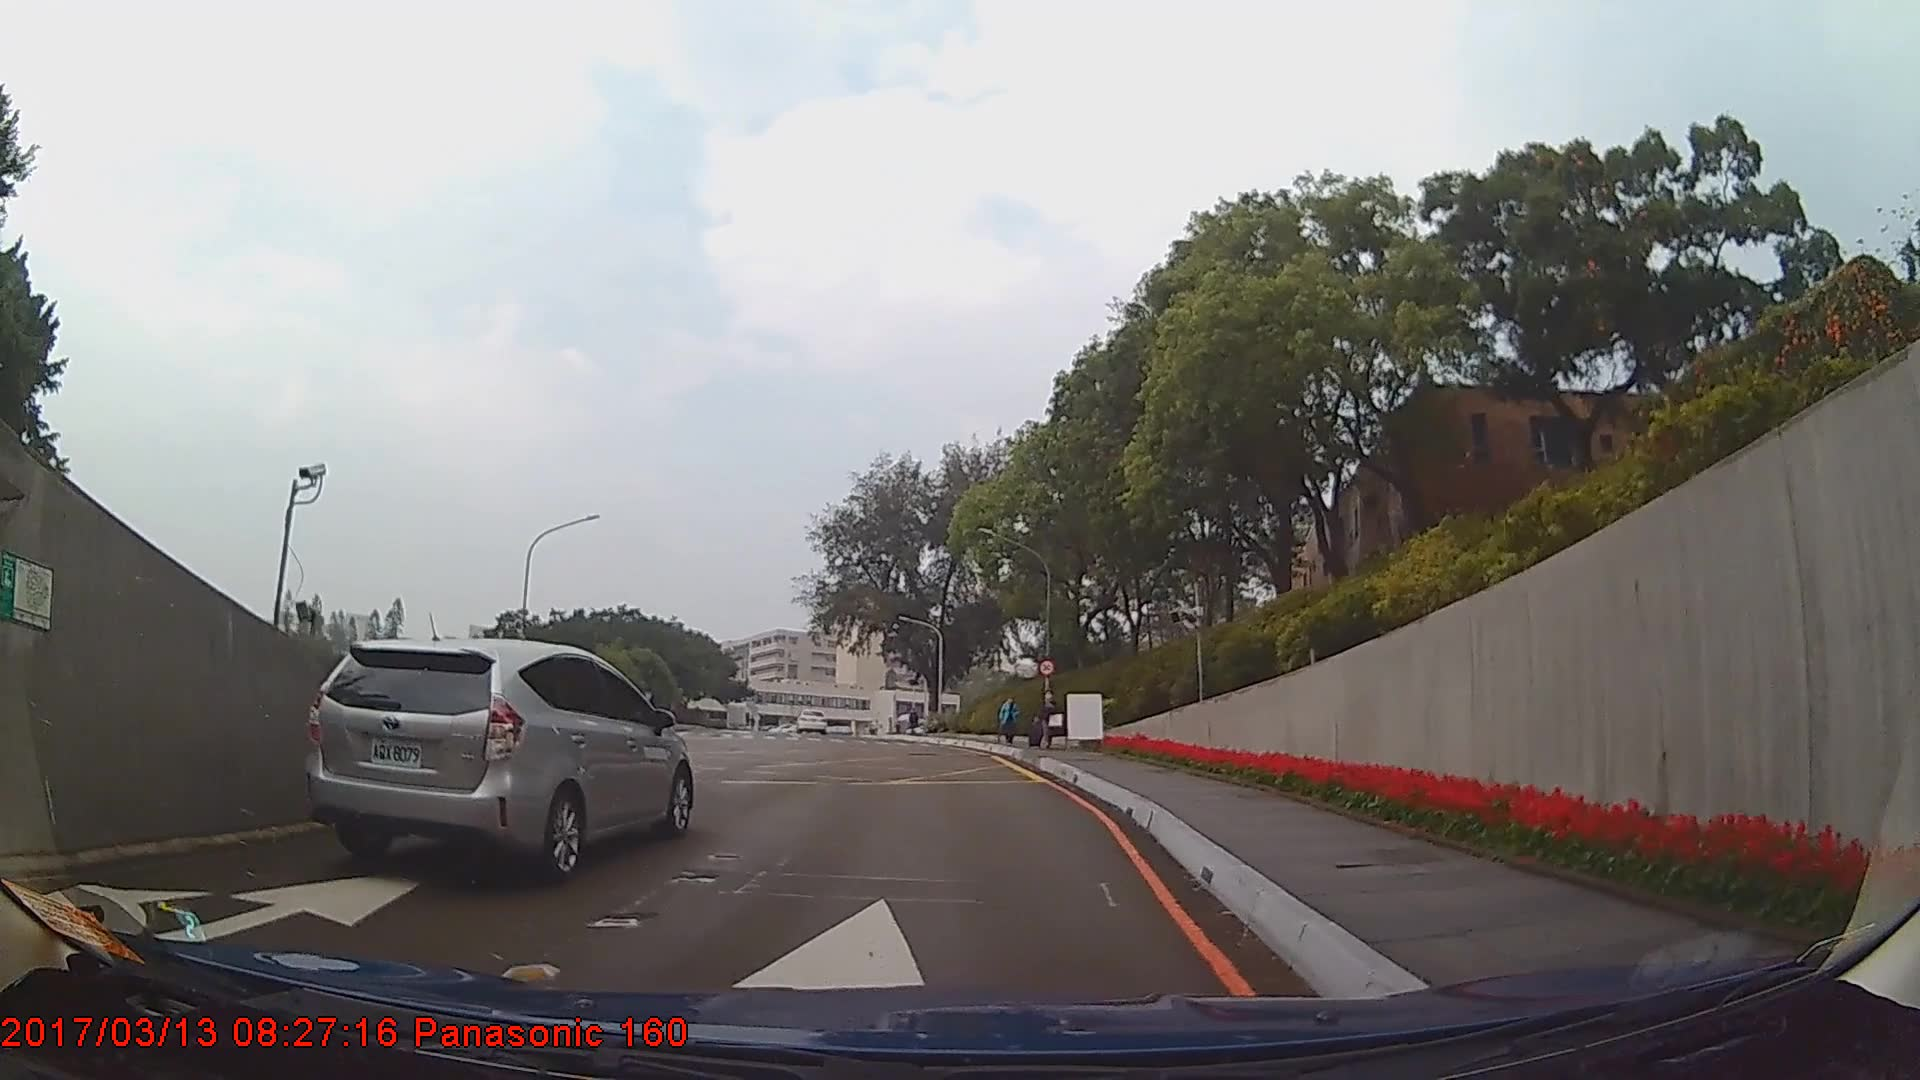pedestrian: (1026, 690, 1063, 750), (999, 698, 1020, 749)
vehicle: (301, 639, 693, 884), (797, 706, 828, 733)
